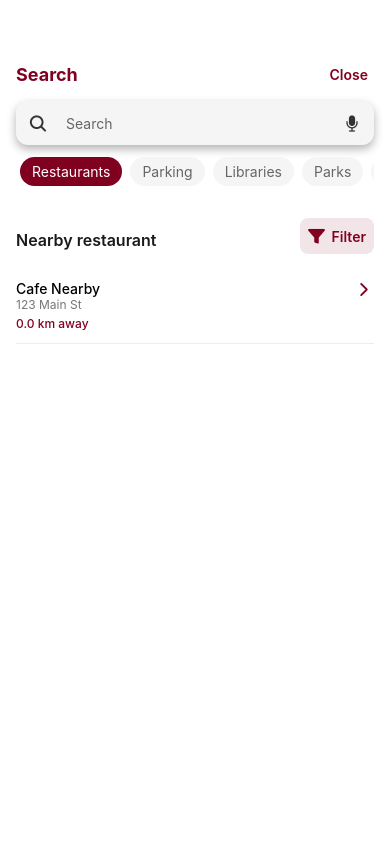
SearchPanel › closes details modal by pressing backdrop
This screenshot has width=390, height=844.
Step 1. Click the text "Cafe Nearby" → (58, 288), box [16,280,100,297]
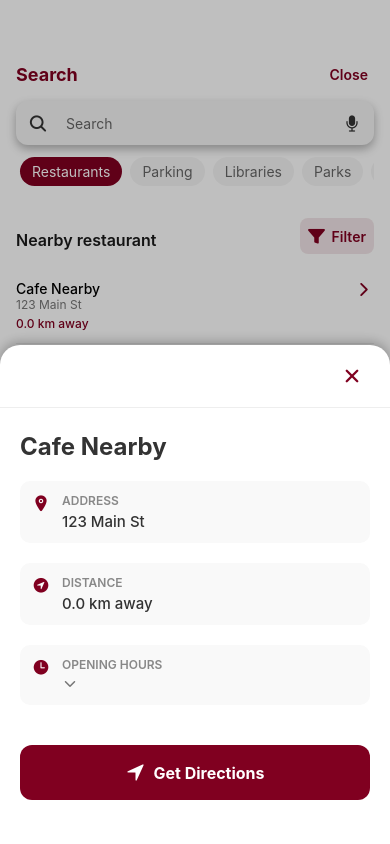
expect the text "Get Directions" is shown: met, box [154,762,265,782]
Press backdrop to close
Step 2. Click the element with test id "details-modal-backdrop" → (195, 51), box [0,0,389,843]
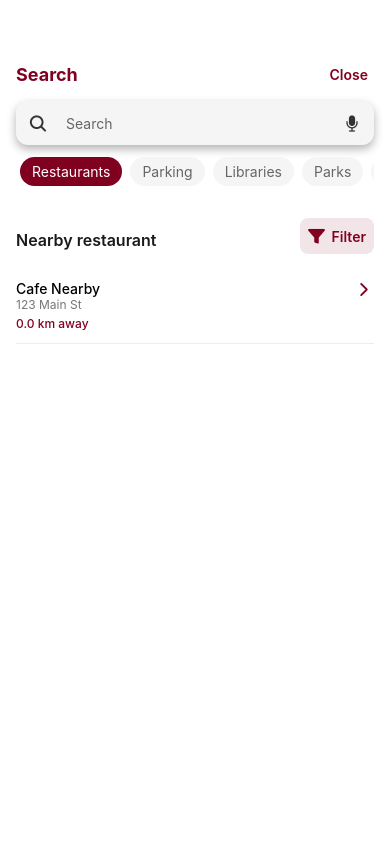
expect the text "Get Directions" is gone: met
